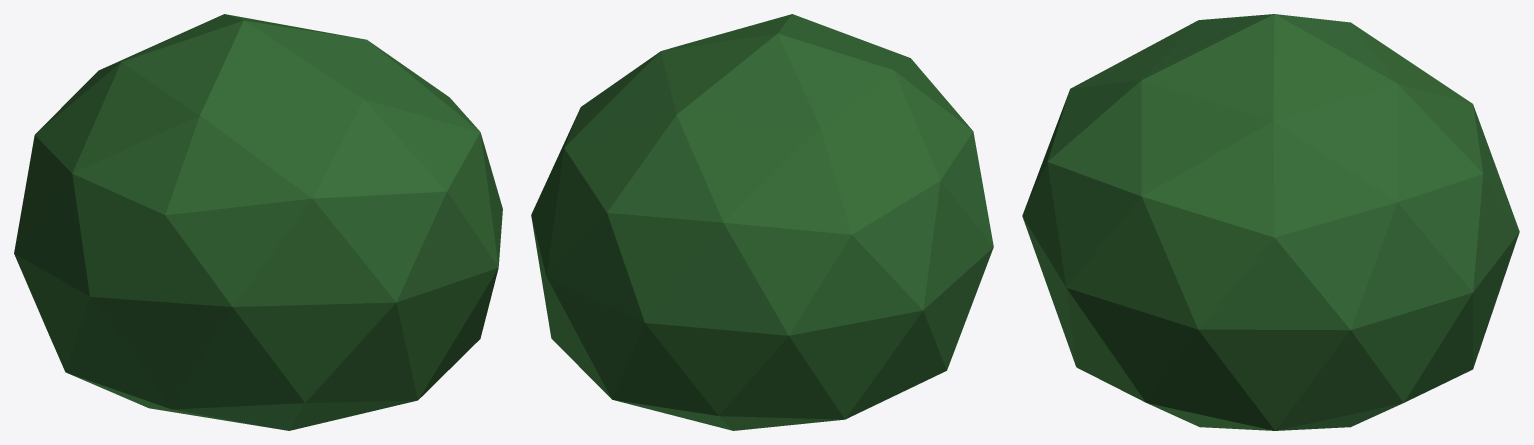
The model's file is BushMesh.fbx.
3 renders of one model, left to right at view 1: azimuth 30°, elevation 25°; view 2: azimuth 150°, elevation 25°; view 3: azimuth 270°, elevation 25°, orthographic. The views are drawn at different scales.
Visible parts, largest first — view 1: Icosphere; view 2: Icosphere; view 3: Icosphere.
Part boxes in pixels (x1,y1,x2,y2): Icosphere: [14, 14, 502, 430]; Icosphere: [531, 14, 993, 430]; Icosphere: [1022, 14, 1519, 430].
Size of the model in its own units: 191 by 164 by 203.
